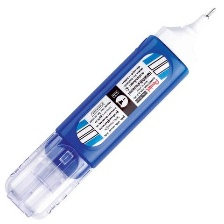correction_fluid: (2, 3, 217, 221)
